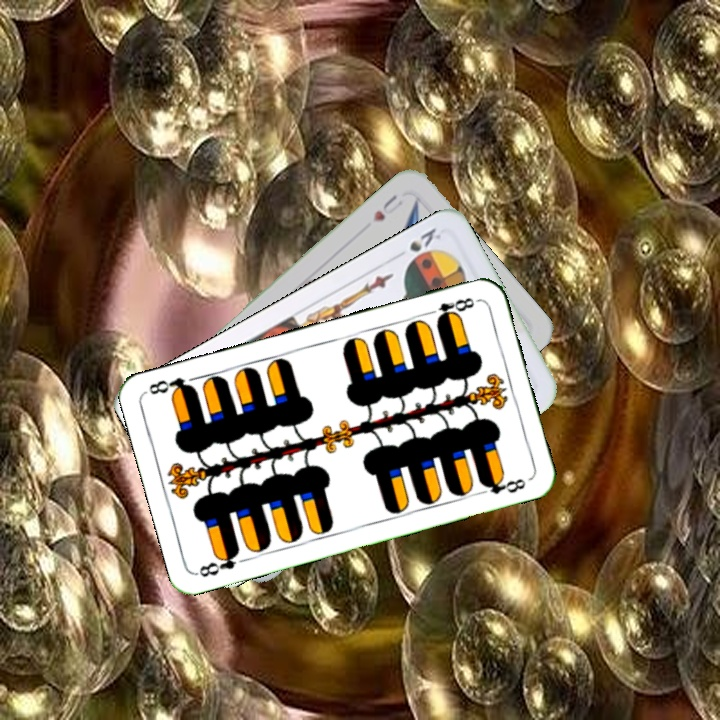E8: (422, 293, 480, 325), (194, 545, 243, 580)
HU: (368, 190, 406, 224)
SK: (405, 223, 444, 255)
